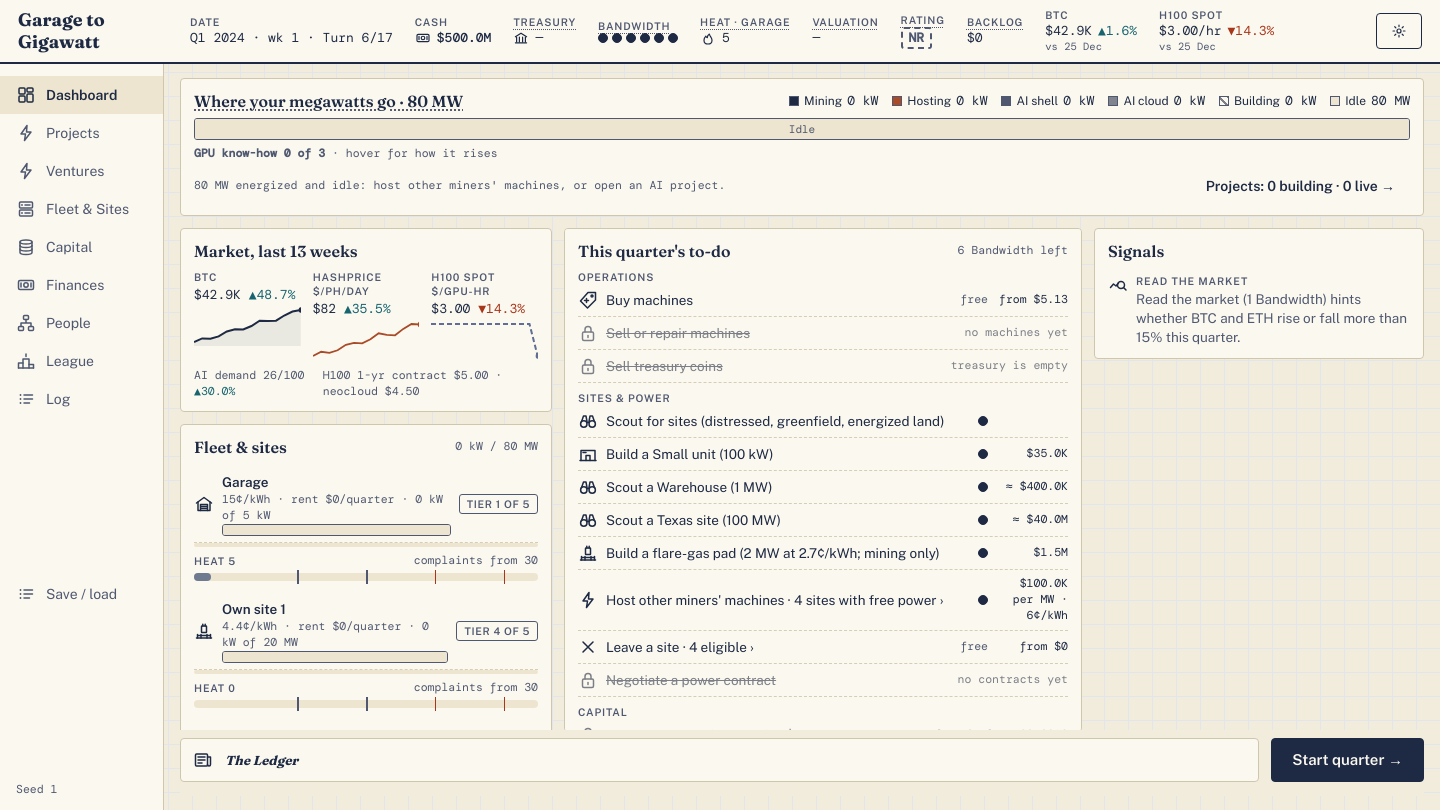
Scenario: Plan to-do: grouped site actions › 2+ leavable sites are one row that opens the picker
Click the button "Leave a site · 4 eligible › free from $0" at x=680, y=647, box [578,631,1068,664]
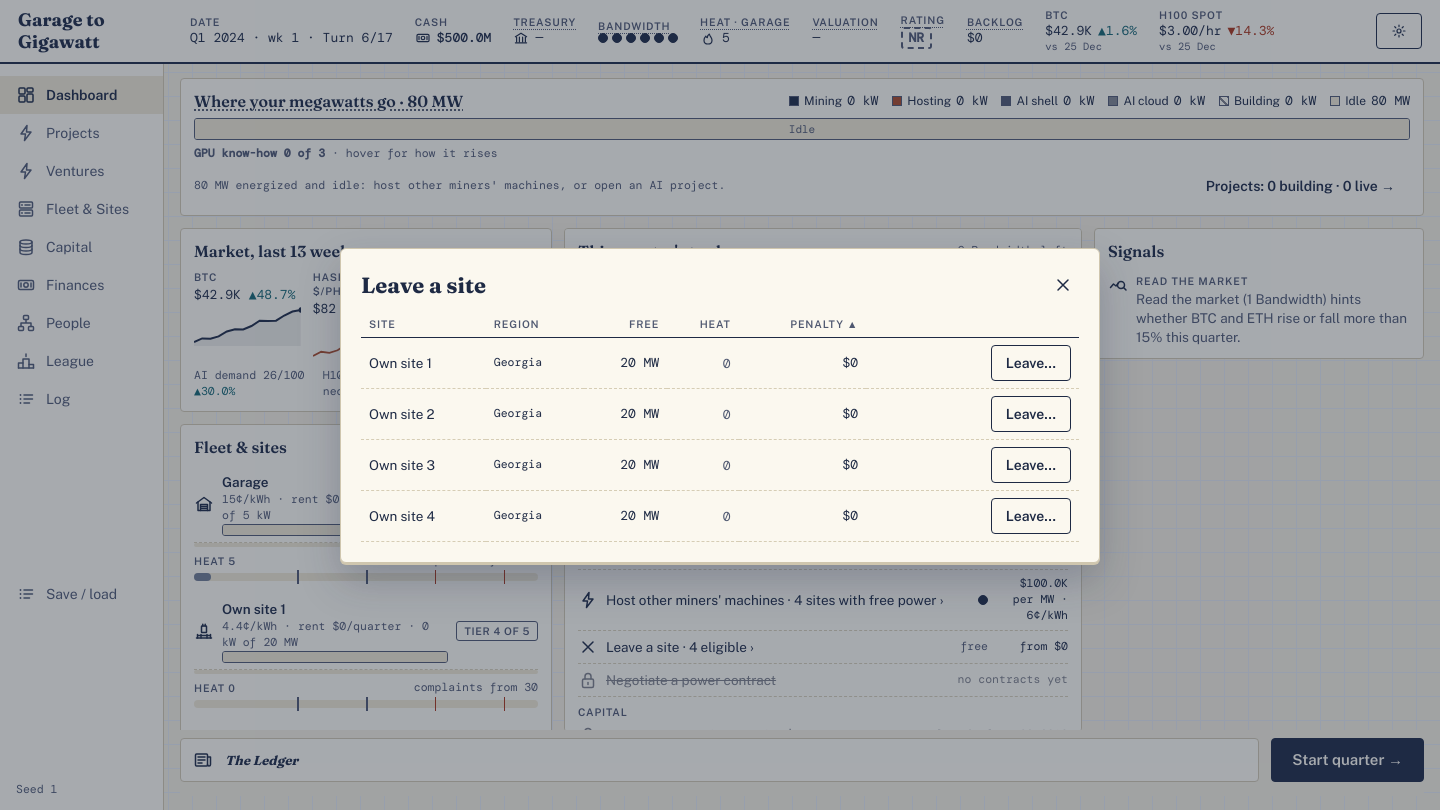
Expected: the table is shown, [361,310,1079,542]
